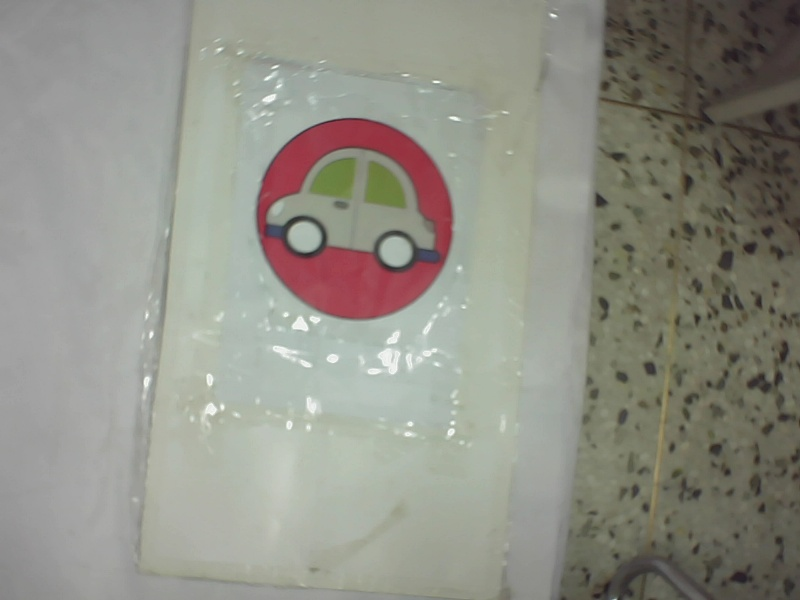areaC: (247, 101, 464, 323)
